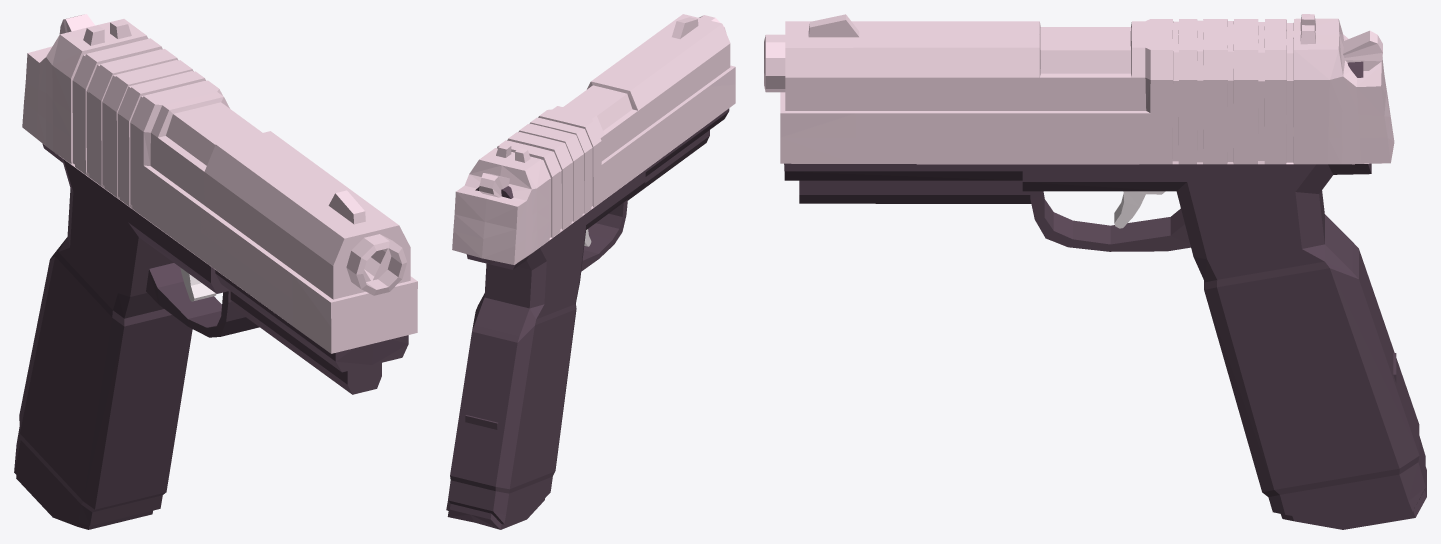
Rendered from Pistol_4.obj.
3 views of the same model, side by side, from view 1: azimuth 30°, elevation 25°; view 2: azimuth 150°, elevation 25°; view 3: azimuth 270°, elevation 25° (orthographic). The views are drawn at different scales.
Visible parts, largest first — view 1: Slide, Hardware, Mag, Body; view 2: Slide, Hardware, Mag; view 3: Slide, Hardware, Mag, Body.
Boxes of the visible parts, x1=… form: Slide: x1=22, y1=14, x2=417, y2=353; Hardware: x1=15, y1=144, x2=408, y2=517; Mag: x1=14, y1=464, x2=161, y2=529; Body: x1=180, y1=267, x2=216, y2=301; Slide: x1=452, y1=14, x2=735, y2=264; Hardware: x1=447, y1=108, x2=729, y2=520; Mag: x1=446, y1=415, x2=551, y2=529; Slide: x1=764, y1=14, x2=1394, y2=164; Hardware: x1=784, y1=61, x2=1426, y2=505; Mag: x1=1270, y1=353, x2=1424, y2=529; Body: x1=1114, y1=191, x2=1165, y2=228.
Size of the model in its own units: 0.4875 by 2.64 by 3.2.
